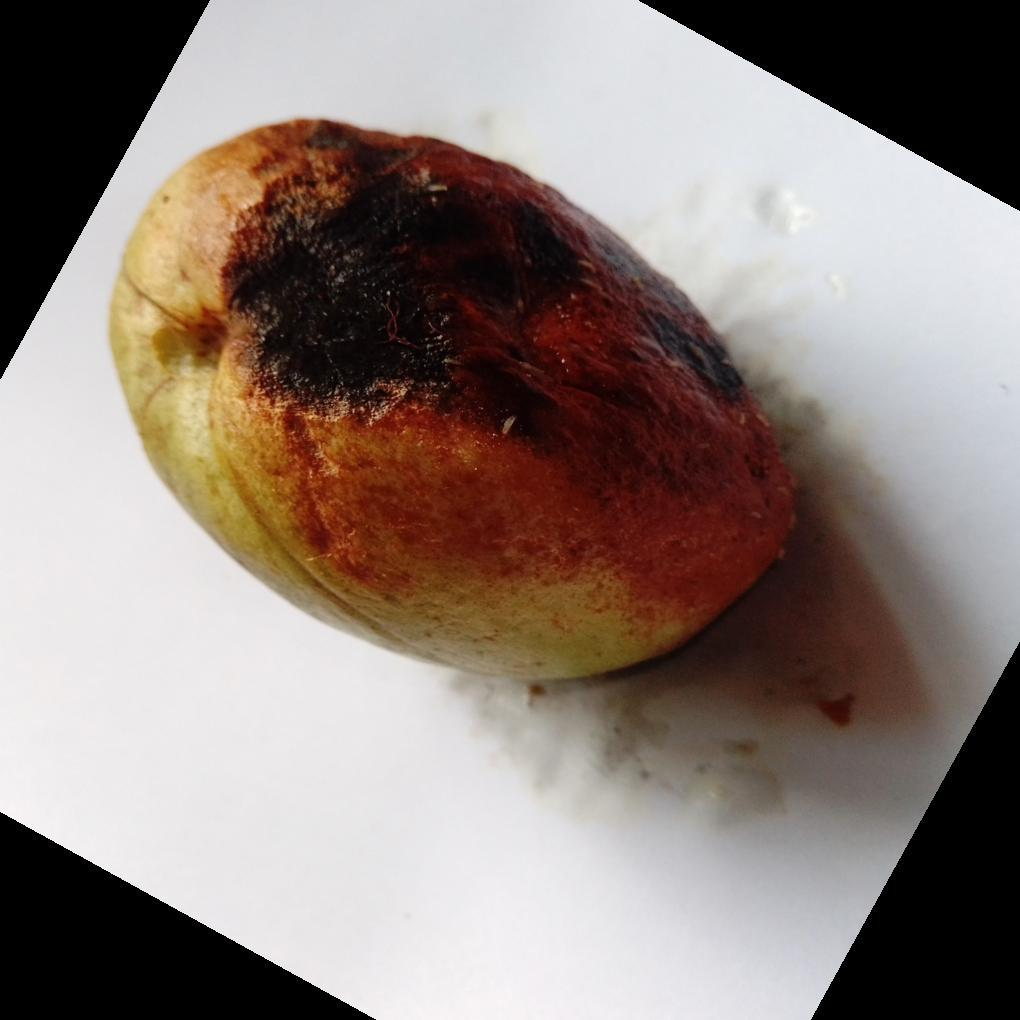FreshOrange: (107, 118, 798, 689)
